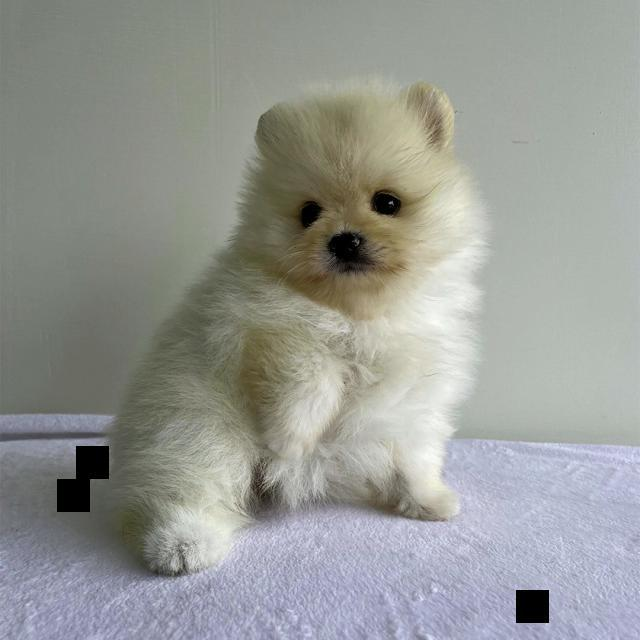puppy-dog: (100, 81, 501, 579)
